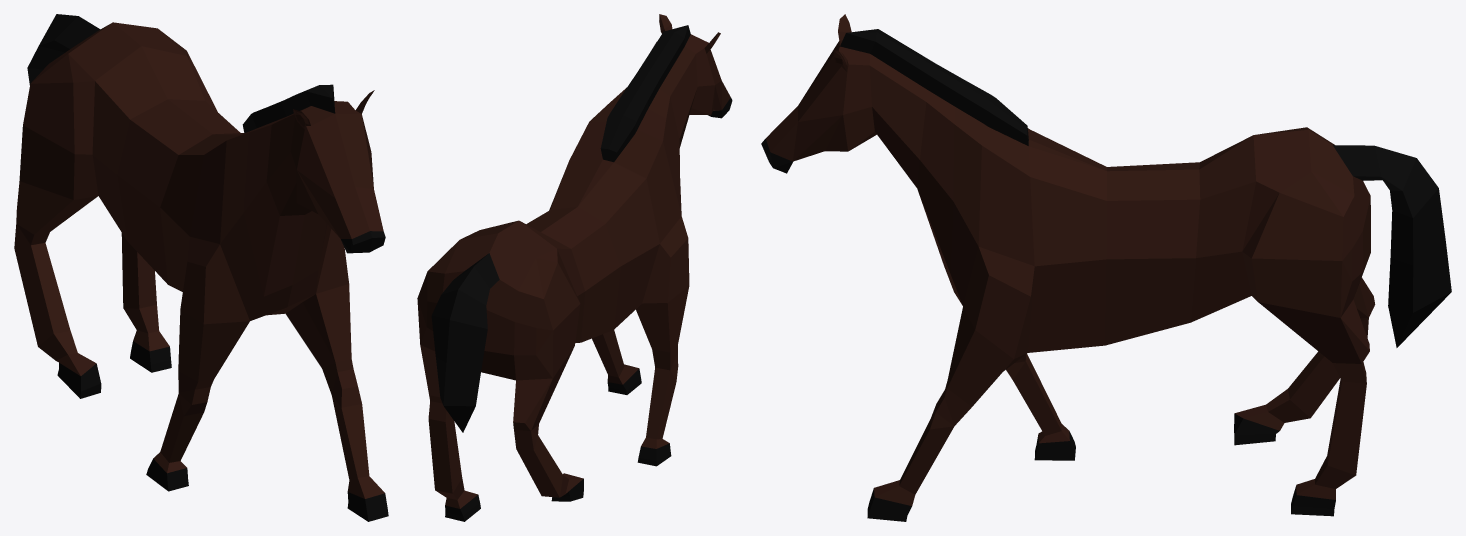
Rendered from Horse_000030.obj.
The picture shows the model from 3 angles, left to right: view 1: azimuth 30°, elevation 25°; view 2: azimuth 150°, elevation 25°; view 3: azimuth 270°, elevation 25°; orthographic projection. The views are drawn at different scales.
Visible parts, largest first — view 1: Horse_Cylinder; view 2: Horse_Cylinder; view 3: Horse_Cylinder.
Part boxes in pixels (box(x1,y1,x2,y2)): Horse_Cylinder: box(14, 14, 388, 521); Horse_Cylinder: box(417, 14, 732, 521); Horse_Cylinder: box(761, 14, 1451, 521).
Size of the model in its own units: 2.57 by 6.7 by 9.19.
